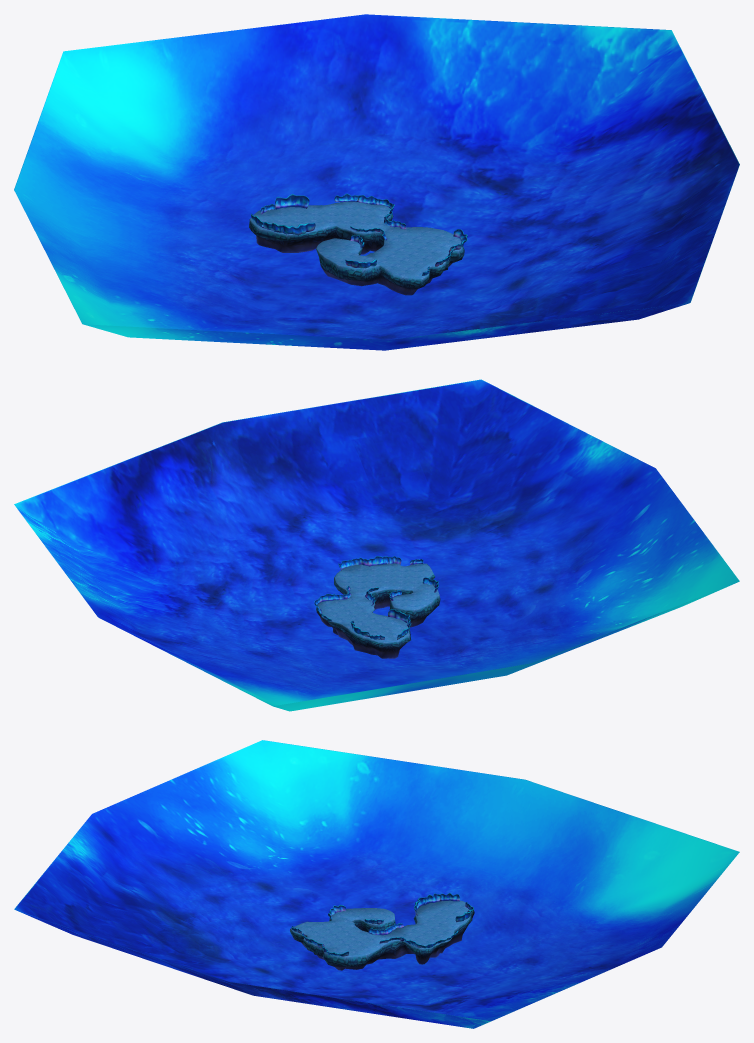
The model's file is Sea_dimian.FBX.
The picture shows the model from 3 angles, top to bottom: view 1: azimuth 30°, elevation 25°; view 2: azimuth 150°, elevation 25°; view 3: azimuth 270°, elevation 25°; orthographic projection. The views are drawn at different scales.
Visible parts, largest first — view 1: haidi_View, dimian, 对象024; view 2: haidi_View, dimian, 对象024; view 3: haidi_View, dimian, 对象024.
Part boxes in pixels (bbox=[...]): haidi_View: bbox=[14, 14, 739, 350]; dimian: bbox=[249, 201, 464, 295]; 对象024: bbox=[251, 193, 467, 275]; haidi_View: bbox=[14, 379, 739, 711]; dimian: bbox=[316, 563, 440, 658]; 对象024: bbox=[314, 556, 438, 639]; haidi_View: bbox=[14, 740, 739, 1028]; dimian: bbox=[290, 900, 474, 970]; 对象024: bbox=[291, 893, 473, 956].
Size of the model in its own units: 8203 by 1111 by 8557.
